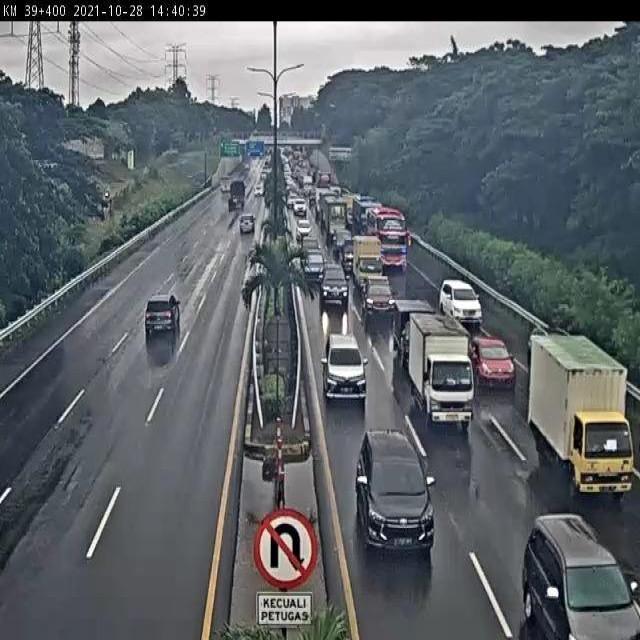bus-l-: (365, 207, 409, 272)
car: (355, 433, 434, 552), (321, 330, 368, 402), (471, 333, 516, 387), (438, 276, 484, 325), (361, 273, 396, 319), (319, 259, 349, 304), (146, 299, 177, 336)
truck-m-: (530, 334, 639, 498)
truck-s-: (408, 316, 473, 427), (395, 300, 436, 367), (353, 235, 384, 292)
